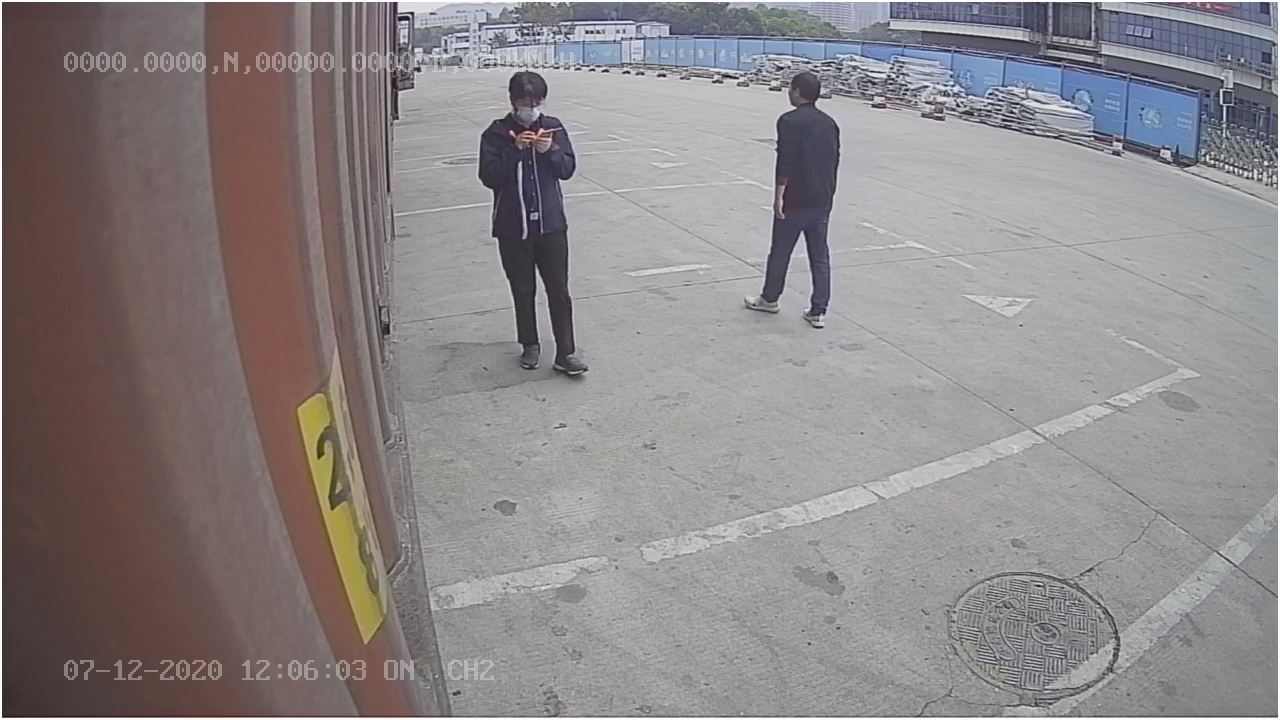person: (472, 67, 588, 374), (742, 69, 841, 328)
